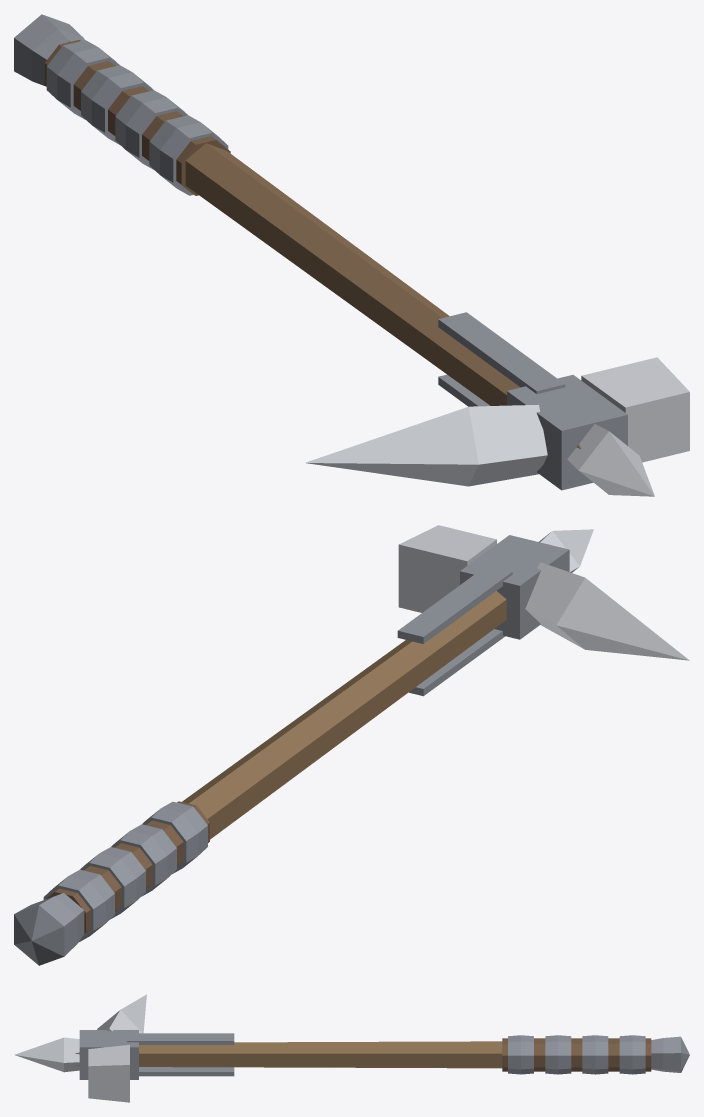
File: warhammer.glb
The picture shows the model from 3 angles, top to bottom: view 1: azimuth 30°, elevation 25°; view 2: azimuth 150°, elevation 25°; view 3: azimuth 270°, elevation 25°; orthographic projection. The views are drawn at different scales.
Parts seen in each view (by area): view 1: warhammer; view 2: warhammer; view 3: warhammer.
Part boxes in pixels (x1=…): warhammer: x1=14, y1=14, x2=689, y2=496; warhammer: x1=14, y1=525, x2=689, y2=965; warhammer: x1=14, y1=994, x2=689, y2=1102.
Bounding box in the file's own units: 0.3557 × 0.0805 × 1.14.
